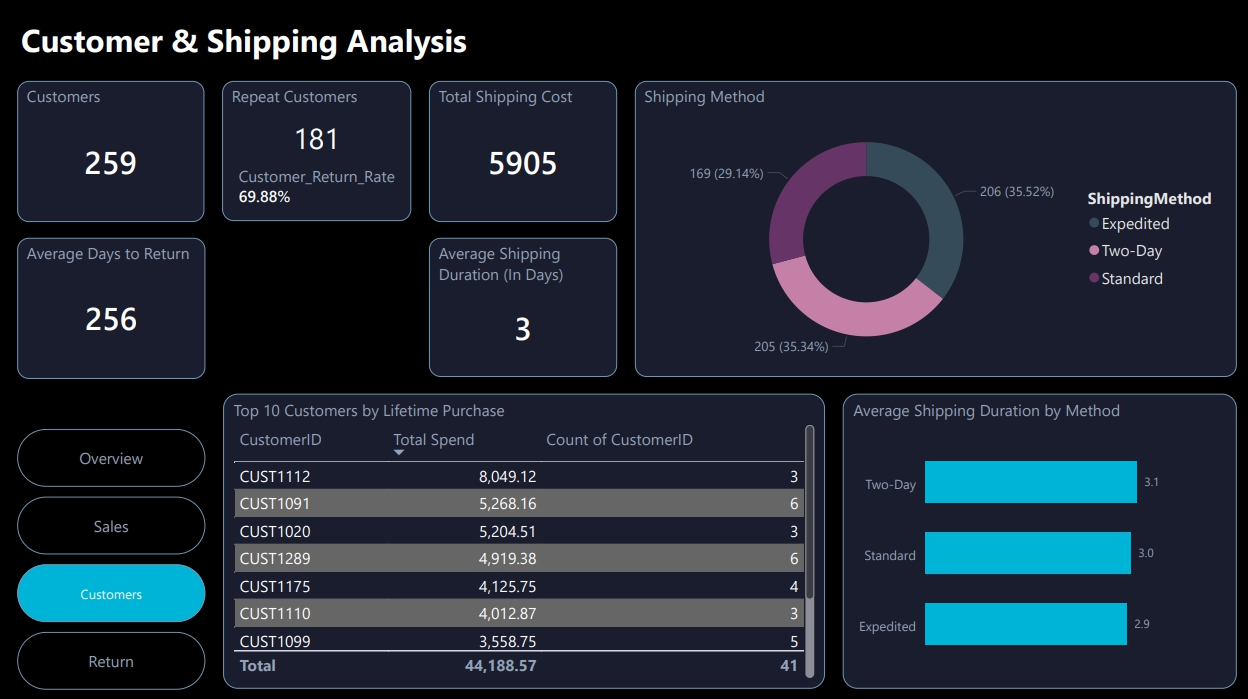

The page's visual inventory and layout, read from the dashboard file:
{"tool":"powerbi","page":{"name":"Customers","canvas":[1280,720],"ordinal":2},"visuals":[{"type":"tableEx","title":"Top 10 Customers by Lifetime Purchase","fields":{"Values":["retail_store_sales ecommerce_dataset_dashboard_table.CustomerID","Sum(retail_store_sales ecommerce_dataset_dashboard_table.OrderTotal)","CountNonNull(retail_store_sales ecommerce_dataset_dashboard_table.CustomerID)"]},"box":[227.8,402.6,614.2,301.2],"z":2000},{"type":"card","title":"Customers","fields":{"Values":["retail_store_sales ecommerce_dataset_dashboard_table.Total_Customers"]},"box":[17.6,83.8,191,144],"z":3000},{"type":"card","title":"Average Days to Return","fields":{"Values":["retail_store_sales ecommerce_dataset_dashboard_table.Average_Days_To_Return"]},"box":[17.6,243.9,192.5,144],"z":4000},{"type":"barChart","title":"Average Shipping Duration by Method","fields":{"Category":["retail_store_sales ecommerce_dataset_dashboard_table.ShippingMethod"],"Y":["retail_store_sales ecommerce_dataset_dashboard_table.Average_Delivery_Duration"]},"box":[859.6,402.6,402.6,301.2],"z":5000},{"type":"card","title":"Average Shipping Duration (In Days)","fields":{"Values":["retail_store_sales ecommerce_dataset_dashboard_table.Average_Delivery_Duration"]},"box":[437.9,243.9,192.5,142.5],"z":6000},{"type":"card","title":"Total Shipping Cost","fields":{"Values":["retail_store_sales ecommerce_dataset_dashboard_table.Total_Shipping_Cost"]},"box":[437.9,83.8,192.5,144],"z":7000},{"type":"donutChart","title":"Shipping Method","fields":{"Category":["retail_store_sales ecommerce_dataset_dashboard_table.ShippingMethod"],"Y":["CountNonNull(retail_store_sales ecommerce_dataset_dashboard_table.OrderID)"]},"box":[648,83.8,614.2,302.7],"z":8000},{"type":"cardVisual","title":"Repeat Customers","fields":{"Data":["retail_store_sales ecommerce_dataset_dashboard_table.Repeat_Customers"]},"box":[227.3,83.7,193.1,143.6],"z":9000},{"type":"pageNavigator","box":[17.9,439.2,191.8,265.3],"z":10000},{"type":"textbox","box":[17.1,15.4,613.5,53],"z":11000}]}

Visuals, with their boxes in screenshot pixels (x1, y1, x2, y2), scaled from the page's 1280x720 canvas onto the 1248x699 screenshot:
"Top 10 Customers by Lifetime Purchase" tableEx: Rect(222, 391, 821, 683)
"Customers" card: Rect(17, 81, 203, 221)
"Average Days to Return" card: Rect(17, 237, 205, 377)
"Average Shipping Duration by Method" barChart: Rect(838, 391, 1231, 683)
"Average Shipping Duration (In Days)" card: Rect(427, 237, 615, 375)
"Total Shipping Cost" card: Rect(427, 81, 615, 221)
"Shipping Method" donutChart: Rect(632, 81, 1231, 375)
"Repeat Customers" cardVisual: Rect(222, 81, 410, 221)
pageNavigator: Rect(17, 426, 204, 684)
textbox: Rect(17, 15, 615, 66)
